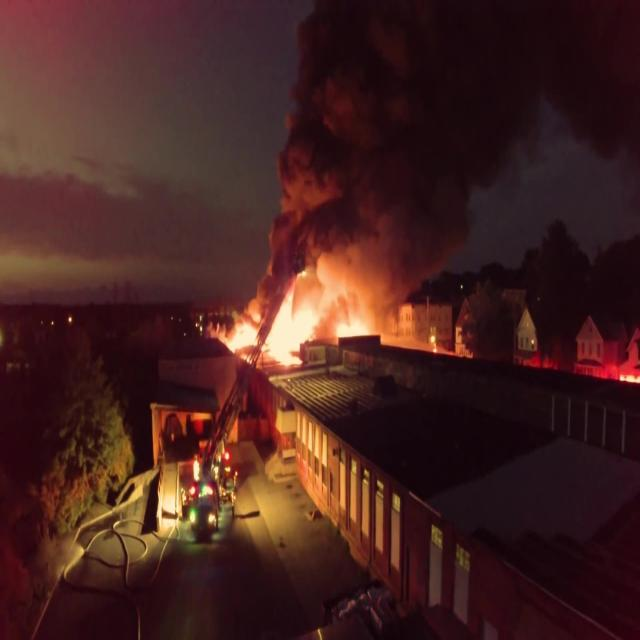Fire: (218, 292, 376, 368)
Smoke: (256, 0, 640, 334)
